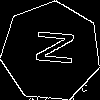N: (26, 26, 75, 67)
